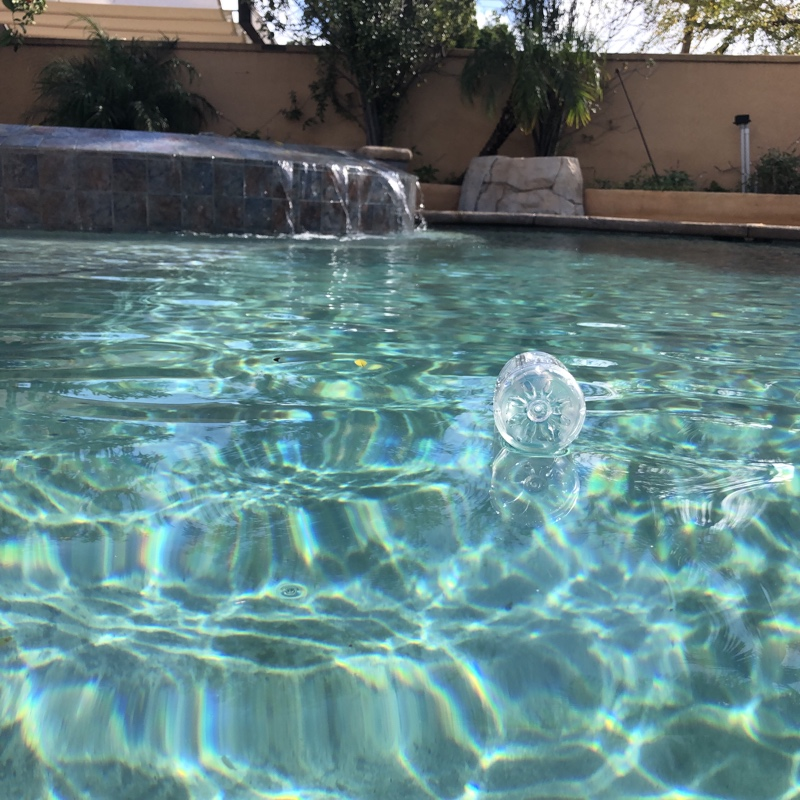Plastic Bottle: (487, 347, 590, 462)
